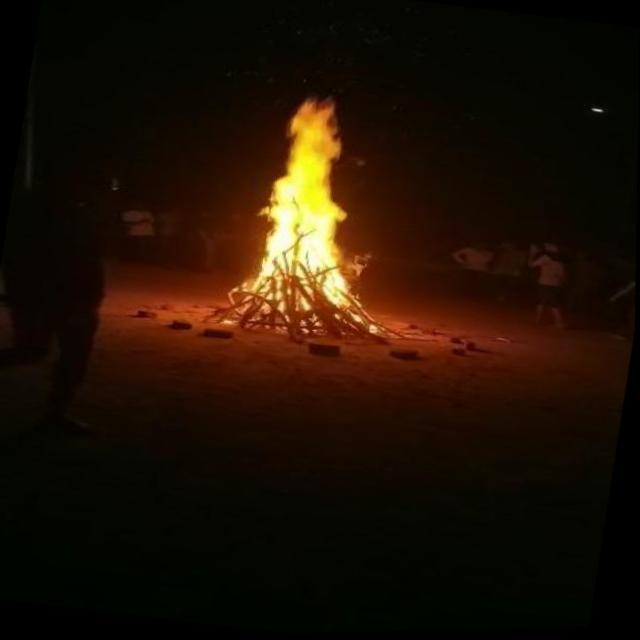fire: (212, 76, 411, 334)
